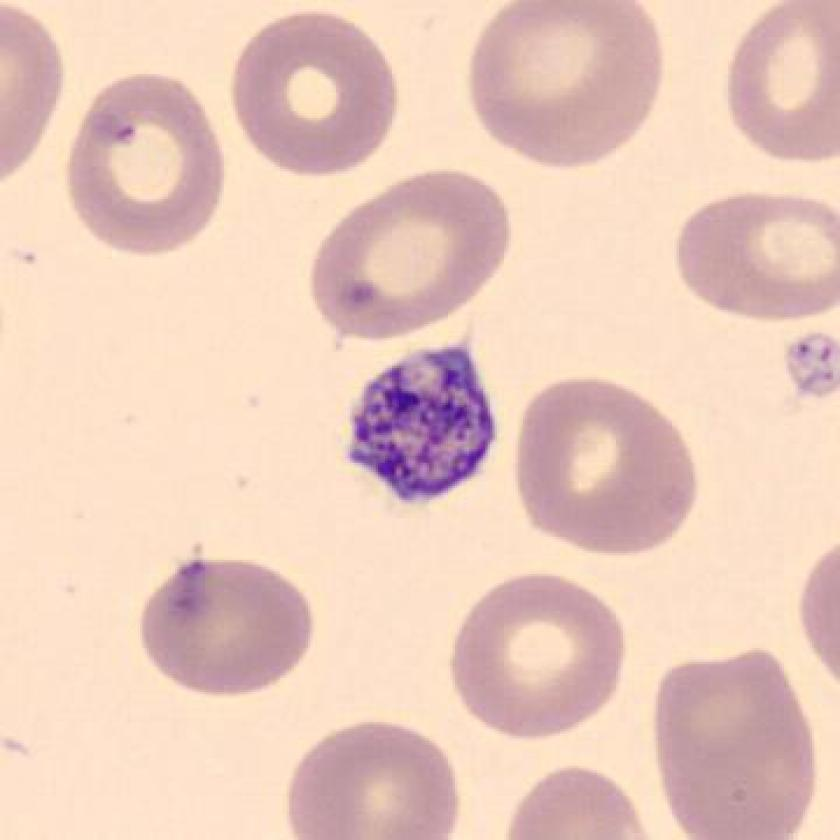platelets: (335, 332, 505, 515)
